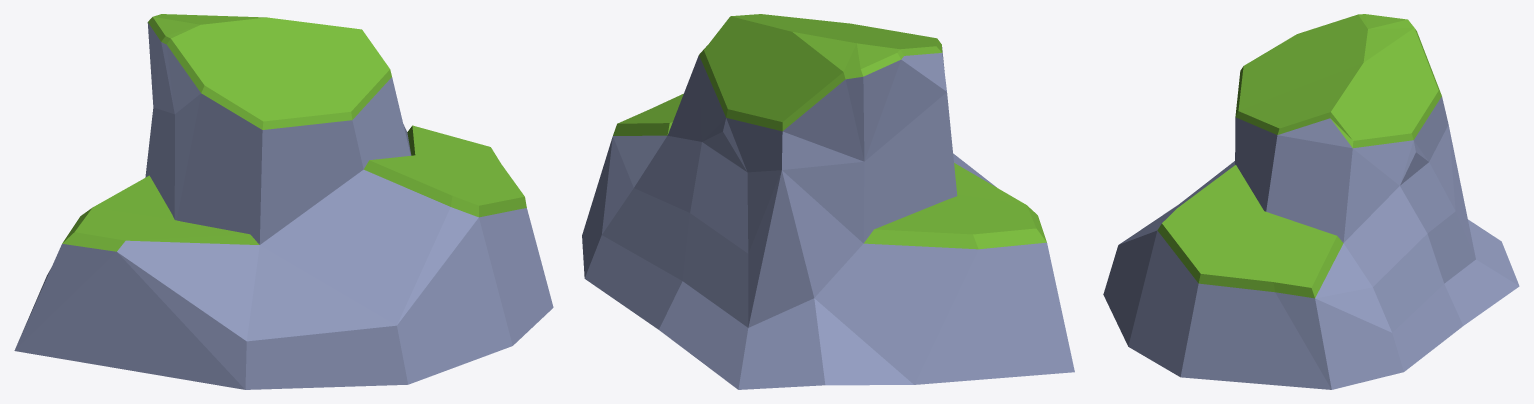
Rendered from Rock_22.fbx.
3 views of the same model, side by side, from view 1: azimuth 30°, elevation 25°; view 2: azimuth 150°, elevation 25°; view 3: azimuth 270°, elevation 25° (orthographic). The views are drawn at different scales.
Visible parts, largest first — view 1: Rock_22; view 2: Rock_22; view 3: Rock_22.
Boxes of the visible parts, x1,y1,x2,y2 form: Rock_22: [14, 14, 553, 389]; Rock_22: [582, 14, 1074, 389]; Rock_22: [1103, 14, 1519, 389].
Size of the model in its own units: 8.36 by 4.57 by 7.04.
